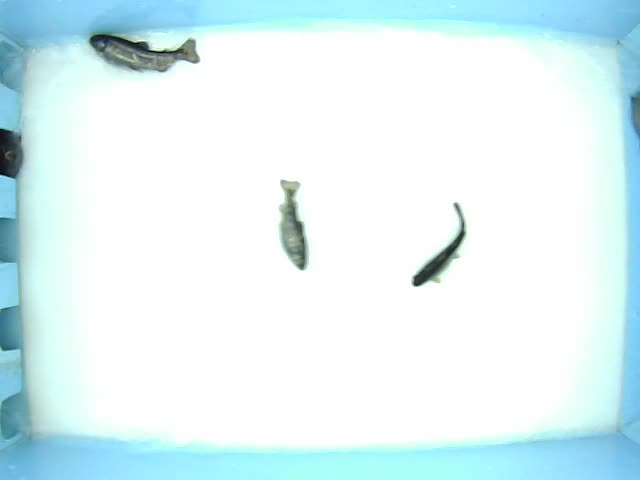fish: (395, 201, 481, 297), (267, 163, 322, 277), (83, 30, 217, 71)
